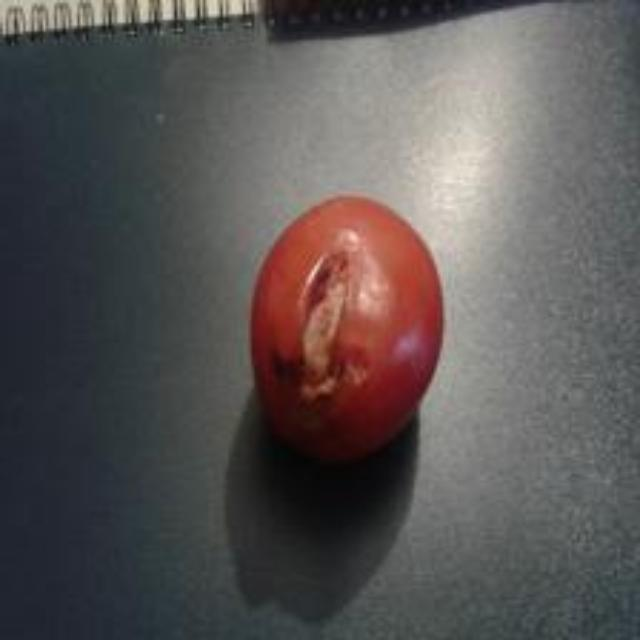defect: (248, 190, 448, 460)
